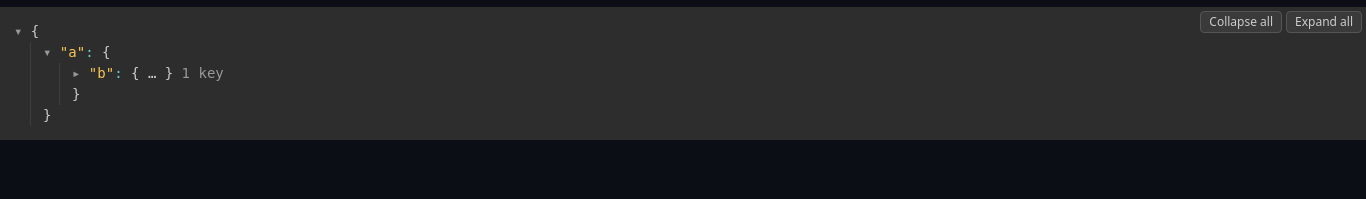
Test: JsonTree › expands a collapsed node on click and collapses it again
Click the button "▸ \"b\": { … } 1 key" at (156, 73), box [72,63,1352,84]
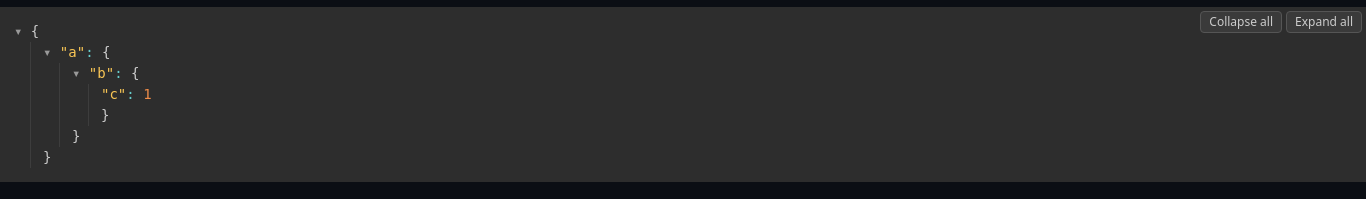
Click the button "▾ \"b\": {" at (80, 73), box [72,63,1352,84]
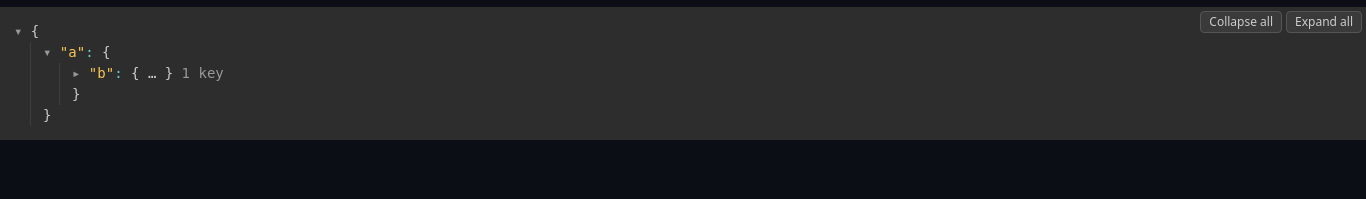
Now the text "\"c\"" is gone
